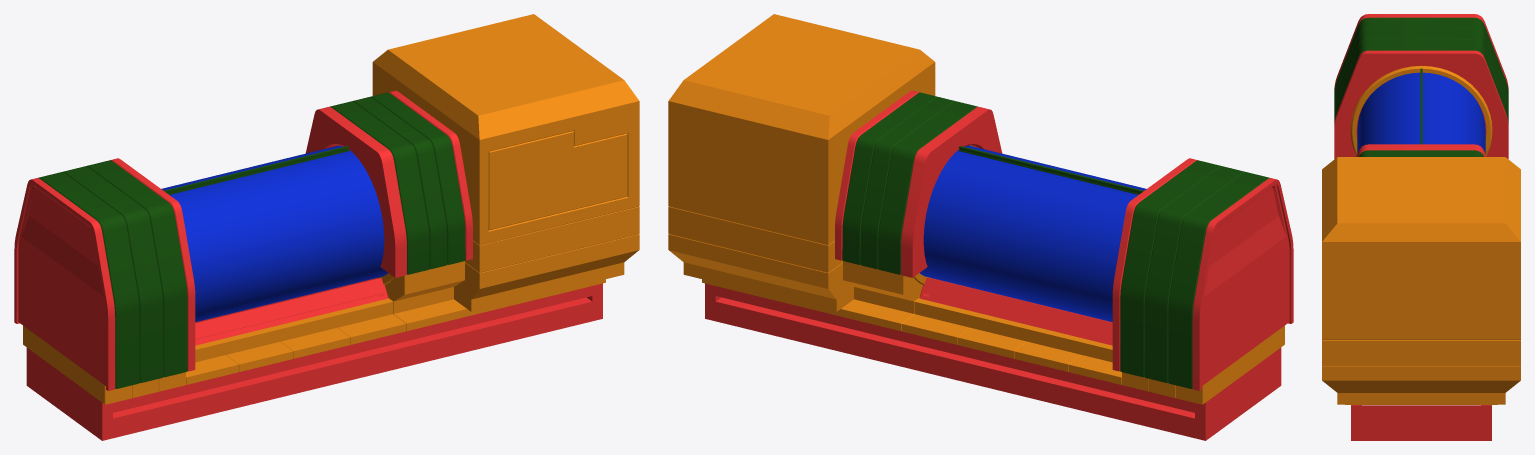
The picture shows the model from 3 angles, left to right: view 1: azimuth 30°, elevation 25°; view 2: azimuth 150°, elevation 25°; view 3: azimuth 270°, elevation 25°; orthographic projection. The views are drawn at different scales.
Parts seen in each view (by area): view 1: P018; view 2: P018; view 3: P018.
Part boxes in pixels (left/top/right/bottom): P018: left=14, top=14, right=639, bottom=440; P018: left=668, top=14, right=1293, bottom=440; P018: left=1322, top=14, right=1520, bottom=440.
Bounding box in the file's own units: 274 × 120 × 96.77.
